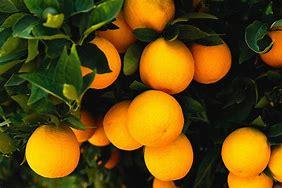orange: (20, 120, 87, 181), (128, 90, 183, 144), (138, 38, 190, 93), (141, 126, 196, 177), (183, 31, 231, 83), (218, 119, 264, 172), (111, 0, 182, 33), (70, 36, 120, 82), (88, 10, 137, 46), (108, 101, 145, 147), (251, 28, 282, 68)
